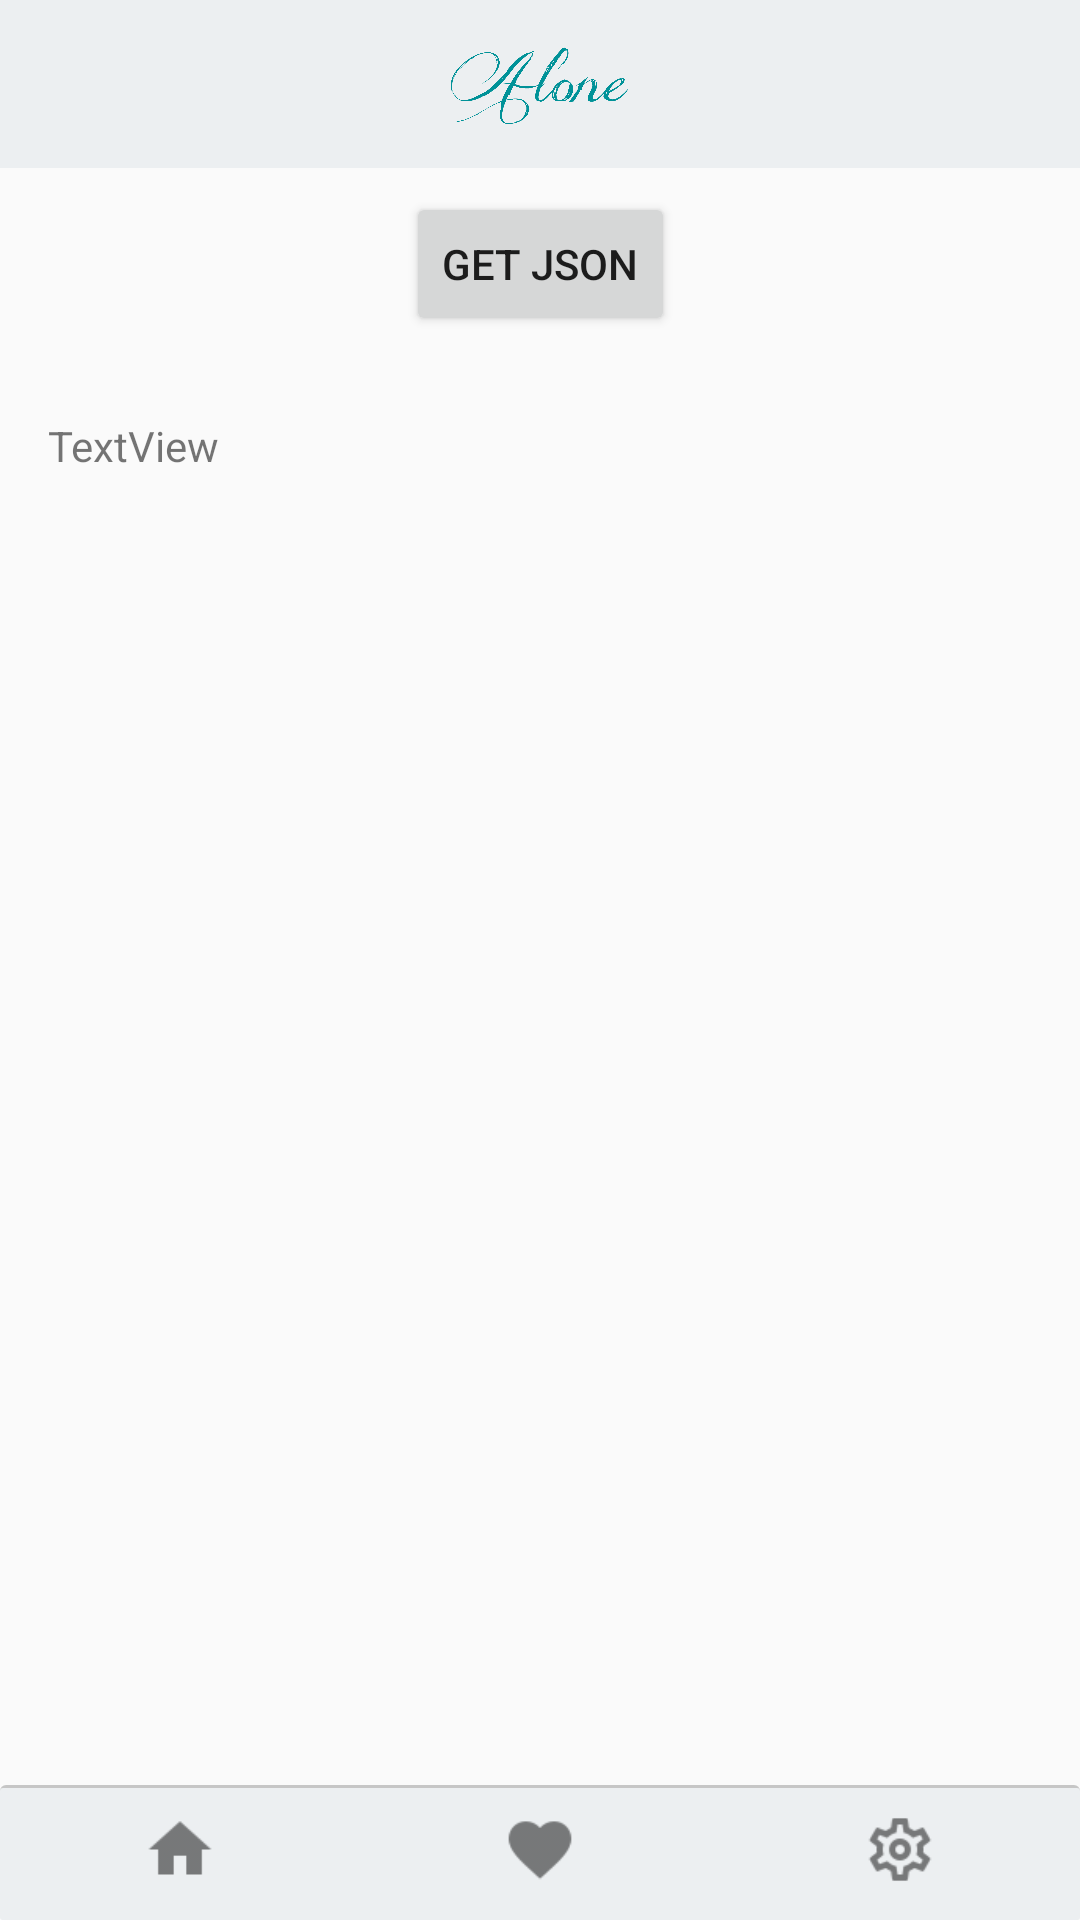

Icon bounding boxes for this 1080*1920 phone screenshot, format (x1, y1, x2, y2):
fav: (508, 1821, 572, 1879)
hom: (149, 1821, 211, 1875)
set: (869, 1818, 931, 1881)
